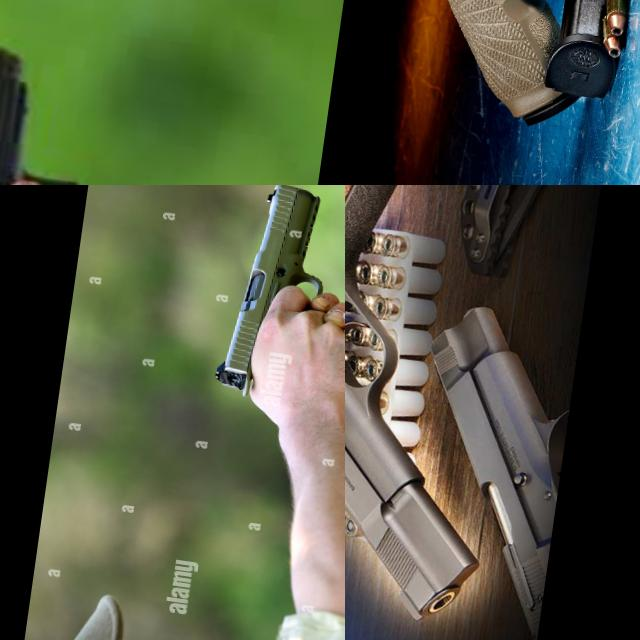handgun: (345, 185, 549, 629), (345, 0, 640, 185), (206, 185, 340, 406), (0, 28, 106, 185)
